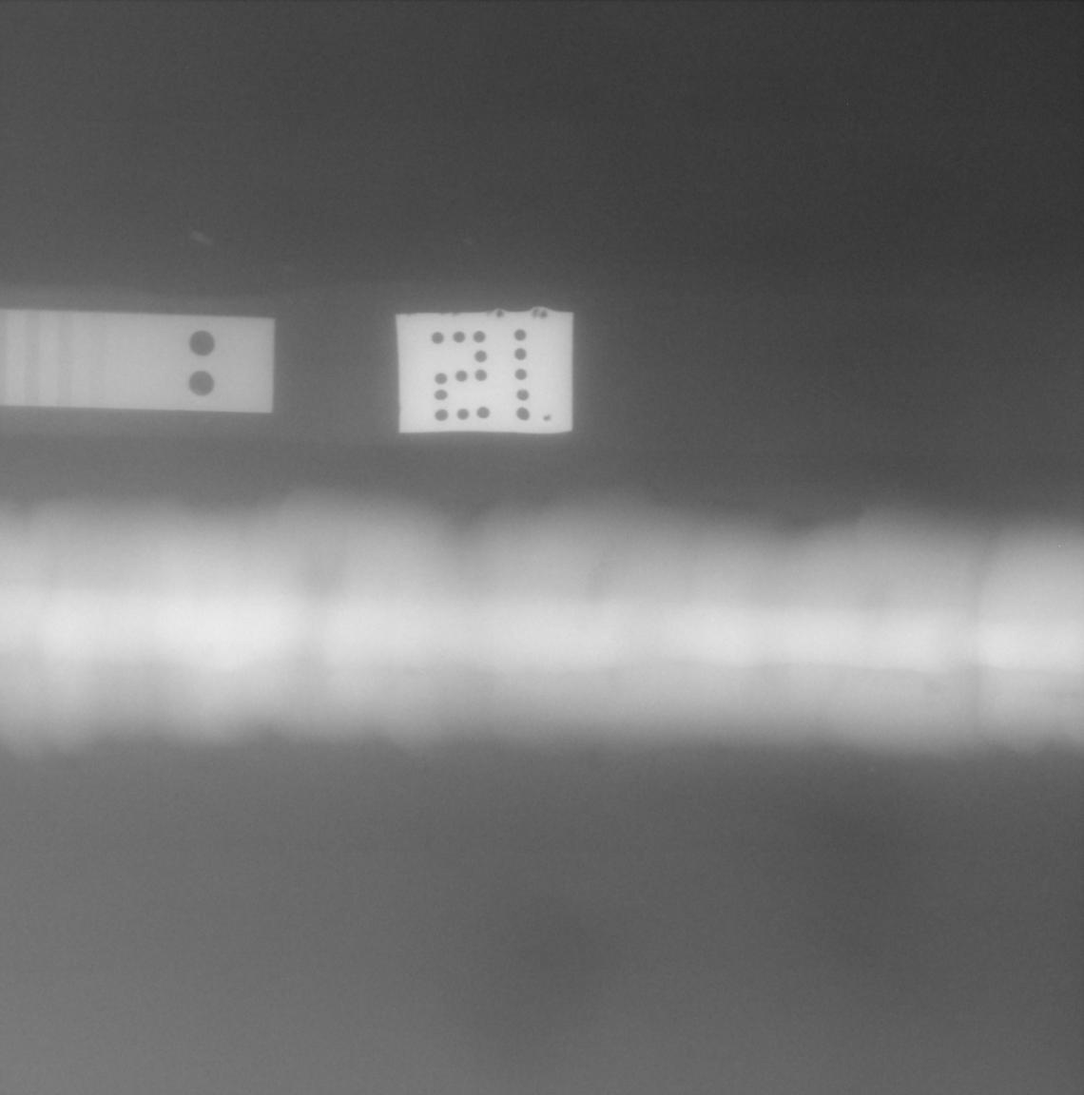Inclusion: (1041, 692, 1083, 699)
